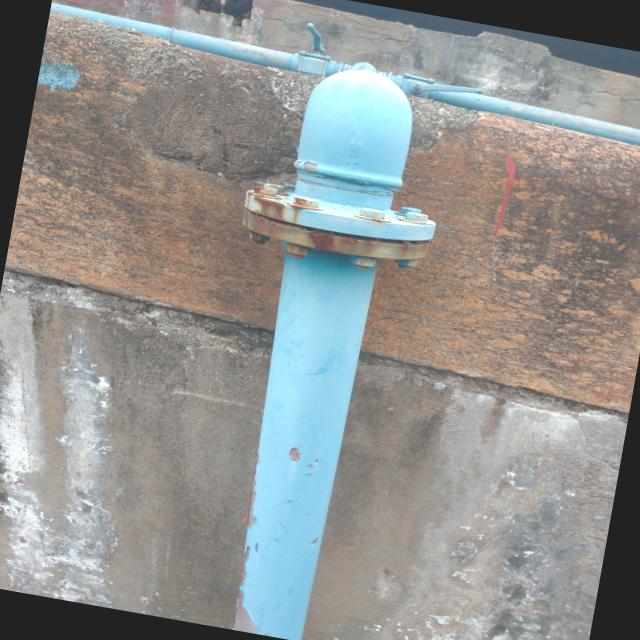gas: (231, 71, 415, 640), (167, 29, 640, 145)
